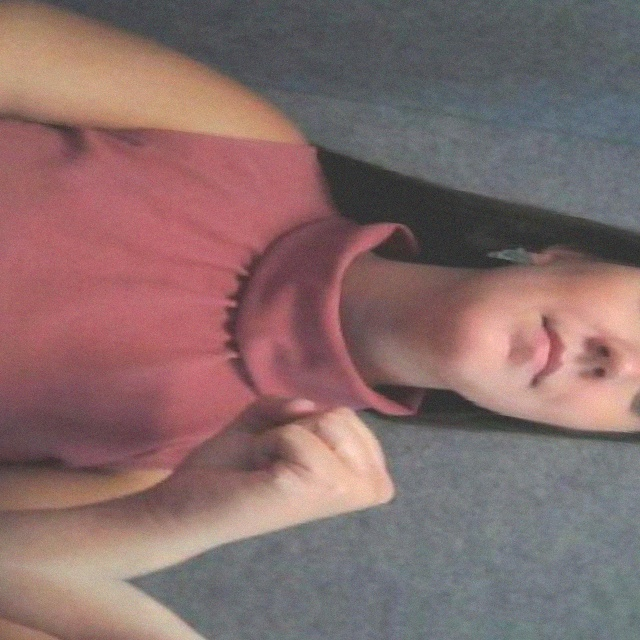Rock: (101, 329, 443, 592)
